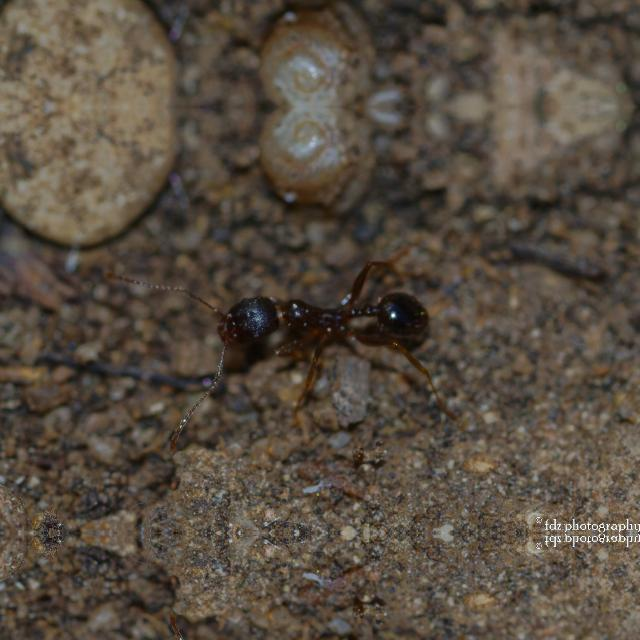Apheanogaster: (182, 264, 454, 372)
